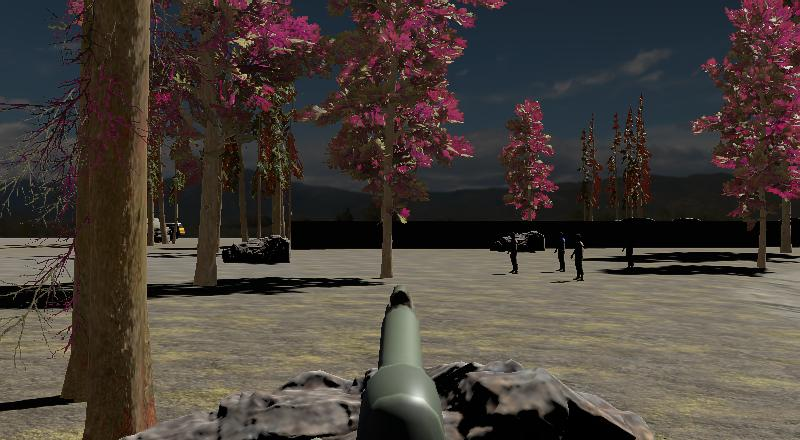Human: (570, 231, 588, 283)
car: (166, 220, 187, 240)
